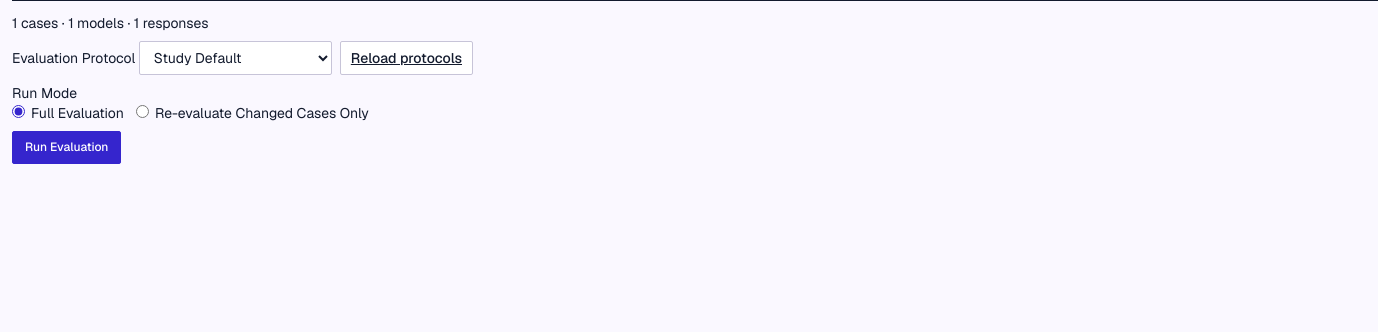
it: incremental baseline and reuse summary
Step 1. Click the radio button labelled "Re-evaluate Changed Cases Only" → point(142, 112), box [136,105,149,118]
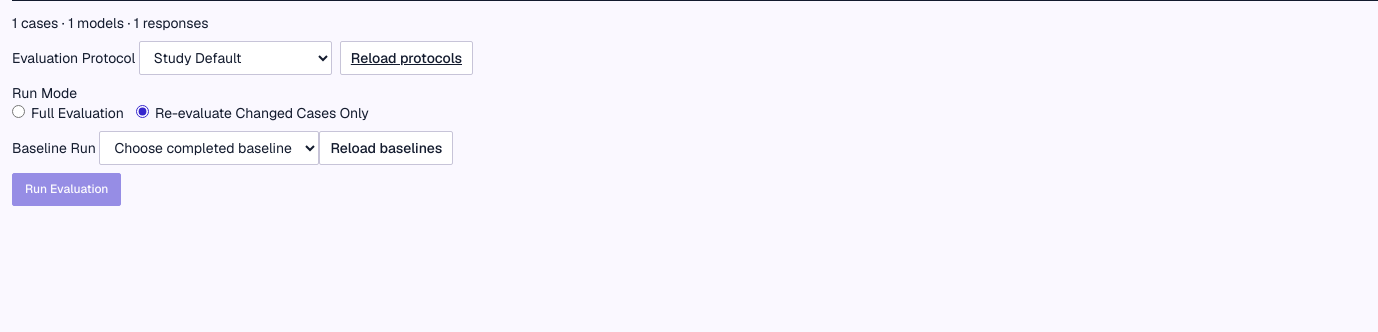
Expected: the button "Run Evaluation" is disabled, [12,173,122,206]
Step 2. Select "Run 1 — completed" in the dropdown labelled "Baseline Run" → point(209, 148), box [99,131,319,165]
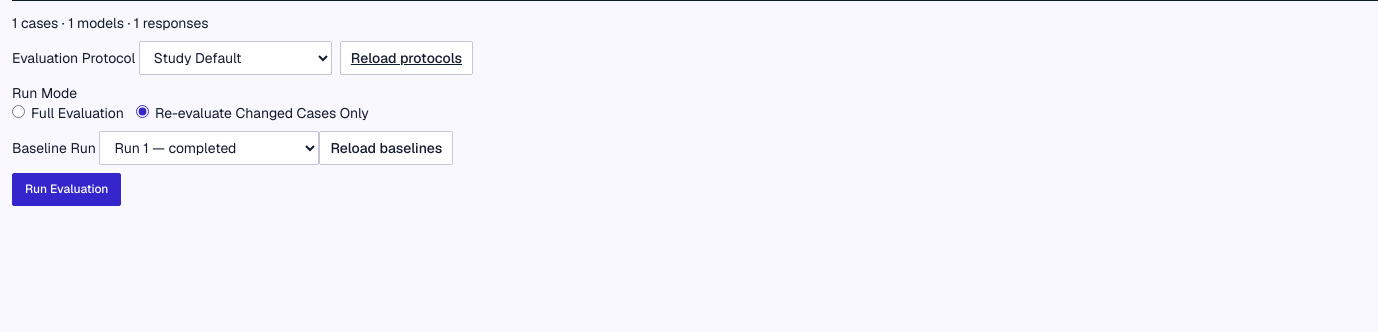
Step 3. Click the button "Run Evaluation" → point(67, 190), box [12,173,122,206]
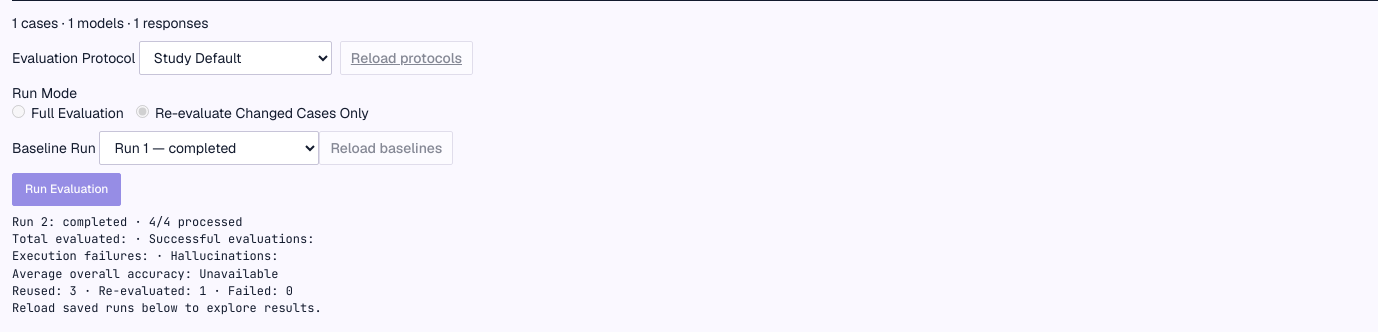
Expected: the text "Reused: 3 · Re-evaluated: 1 · Failed: 0" is shown, [12,283,293,299]
